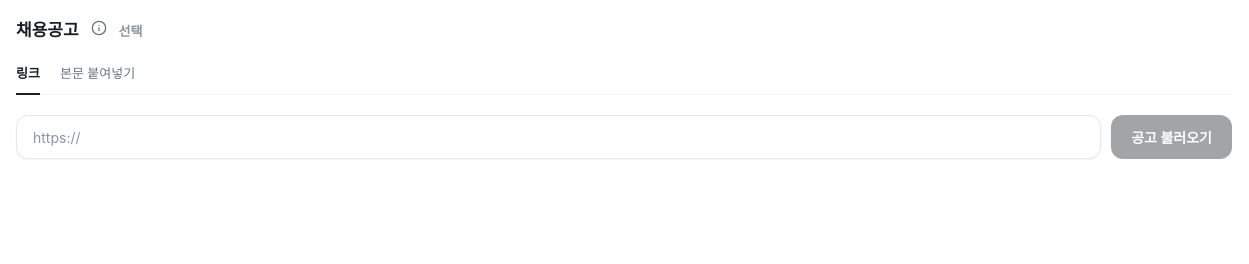
Test: JobPostingSection — 접수 중인 공고 탭 › keeps the how-to copy behind the help button
Expected: the text "지원하려는 공고를 넣으면" is not shown
Expected: the text "링크로 열리지 않는 사이트" is not shown
Click the button named "채용공고 넣는 법". click: point(99, 28)
box: x1=87 y1=16 x2=111 y2=40
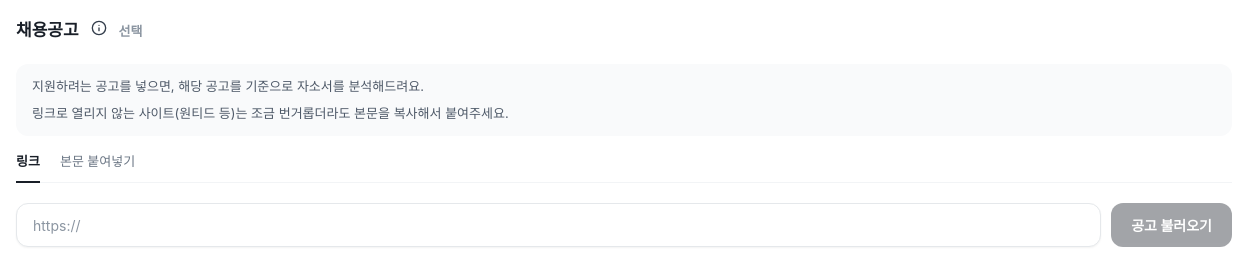
Expected: the text "지원하려는 공고를 넣으면, 해당 공고를 기준으로 자소서를 분석해드려요." is shown, x1=32 y1=78 x2=424 y2=94
Expected: the text "링크로 열리지 않는 사이트(원티드 등)는 조금 번거롭더라도 본문을 복사해서 붙여주세요." is shown, x1=32 y1=105 x2=509 y2=121
